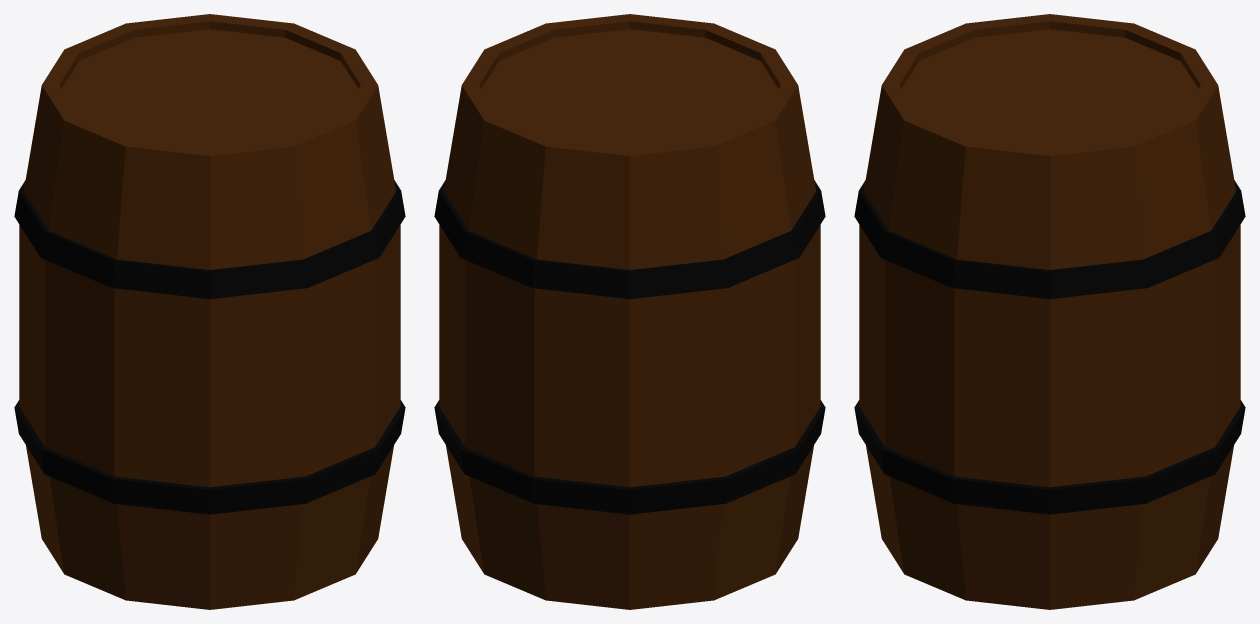
Rendered from Barrel.FBX.
3 views of the same model, side by side, from view 1: azimuth 30°, elevation 25°; view 2: azimuth 150°, elevation 25°; view 3: azimuth 270°, elevation 25° (orthographic).
Parts seen in each view (by area): view 1: Cylinder001; view 2: Cylinder001; view 3: Cylinder001.
Part boxes in pixels (x1,y1,x2,y2): Cylinder001: (14, 14, 405, 609); Cylinder001: (434, 14, 825, 609); Cylinder001: (854, 14, 1245, 609).
Bounding box in the file's own units: 23.46 × 30.03 × 23.46.
